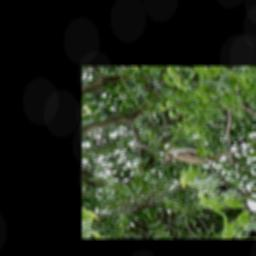Cuckoo: (158, 124, 247, 178)
